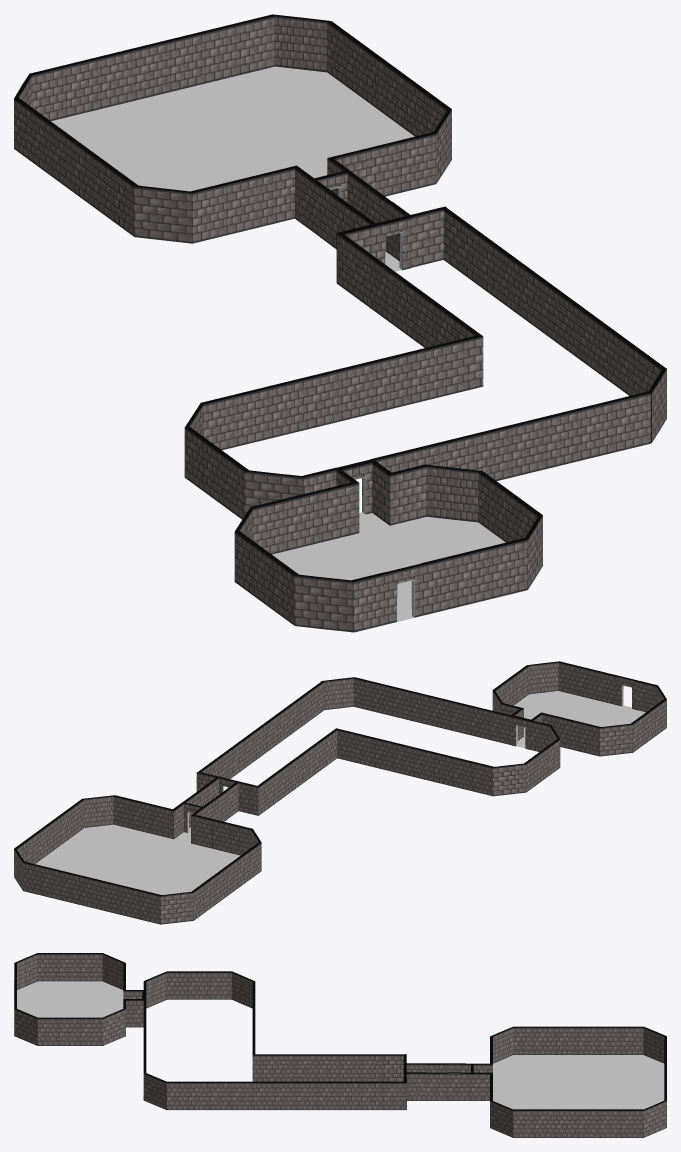
The model's file is salle sans sol.fbx.
3 views of the same model, one above another, from view 1: azimuth 30°, elevation 25°; view 2: azimuth 150°, elevation 25°; view 3: azimuth 270°, elevation 25° (orthographic). The views are drawn at different scales.
Visible parts, largest first — view 1: Plane277, Plane109, Plane247, Plane231, Plane072, Plane185, Plane066, Plane250, Plane179, Plane067, Plane267, Plane143 (+65 smaller); view 2: Plane277, Plane246, Plane130, Plane100, Plane203, Plane180, Plane087, Plane217, Plane158, Plane214, Plane213, Plane144 (+33 smaller); view 3: Plane277, Plane179, Plane108, Plane162, Plane248, Plane107, Plane239, Plane190, Plane077, Plane104, Plane117, Plane160 (+43 smaller).
Boxes of the visible parts, x1=… form: Plane277: x1=51, y1=66, x2=666, y2=632; Plane109: x1=294, y1=575, x2=353, y2=632; Plane247: x1=134, y1=186, x2=192, y2=243; Plane231: x1=274, y1=15, x2=328, y2=72; Plane072: x1=426, y1=465, x2=479, y2=522; Plane185: x1=410, y1=208, x2=463, y2=273; Plane066: x1=382, y1=465, x2=426, y2=525; Plane250: x1=261, y1=167, x2=304, y2=226; Plane179: x1=445, y1=321, x2=483, y2=395; Plane067: x1=321, y1=477, x2=359, y2=541; Plane267: x1=65, y1=58, x2=101, y2=117; Plane143: x1=411, y1=344, x2=446, y2=403; Plane277: x1=35, y1=691, x2=645, y2=894; Plane246: x1=160, y1=892, x2=193, y2=924; Plane130: x1=493, y1=764, x2=526, y2=796; Plane100: x1=600, y1=724, x2=632, y2=756; Plane203: x1=227, y1=782, x2=258, y2=818; Plane180: x1=326, y1=729, x2=355, y2=765; Plane087: x1=528, y1=662, x2=558, y2=694; Plane217: x1=83, y1=796, x2=113, y2=827; Plane158: x1=324, y1=678, x2=353, y2=709; Plane214: x1=153, y1=805, x2=178, y2=839; Plane213: x1=191, y1=812, x2=212, y2=848; Plane144: x1=355, y1=734, x2=375, y2=767; Plane277: x1=14, y1=981, x2=664, y2=1137; Plane179: x1=252, y1=1045, x2=275, y2=1081; Plane108: x1=102, y1=1009, x2=125, y2=1045; Plane162: x1=143, y1=1073, x2=166, y2=1109; Plane248: x1=643, y1=1100, x2=666, y2=1137; Plane107: x1=14, y1=1009, x2=37, y2=1045; Plane239: x1=490, y1=1101, x2=513, y2=1137; Plane190: x1=383, y1=1079, x2=406, y2=1109; Plane077: x1=37, y1=953, x2=59, y2=981; Plane104: x1=37, y1=1018, x2=59, y2=1045; Plane117: x1=188, y1=972, x2=210, y2=999; Plane160: x1=188, y1=1082, x2=210, y2=1109.
Bounding box in the file's own units: 17576 × 1427 × 30754.
